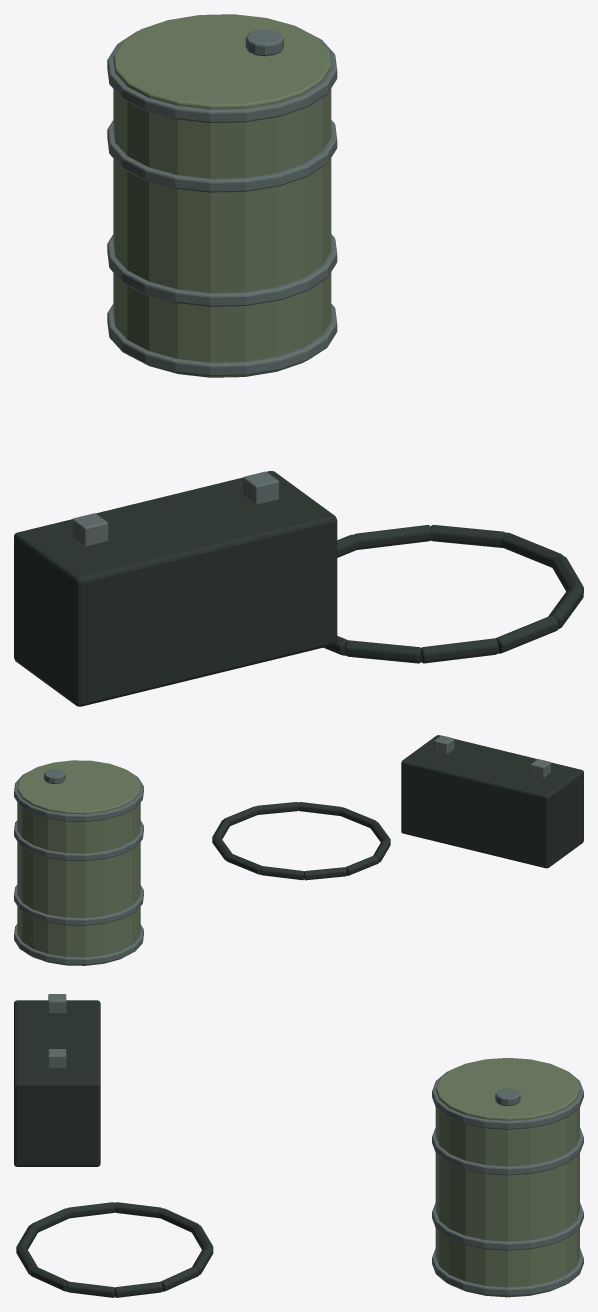
File: generator_dressing.glb
The picture shows the model from 3 angles, top to bottom: view 1: azimuth 30°, elevation 25°; view 2: azimuth 150°, elevation 25°; view 3: azimuth 270°, elevation 25°; orthographic projection. The views are drawn at different scales.
Visible parts, largest first — view 1: CampDressing; view 2: CampDressing; view 3: CampDressing.
Part boxes in pixels (x1,y1,x2,y2): CampDressing: (14, 14, 583, 706); CampDressing: (14, 735, 583, 965); CampDressing: (14, 994, 583, 1297).
Size of the model in its own units: 1.31 by 0.631 by 1.58.
